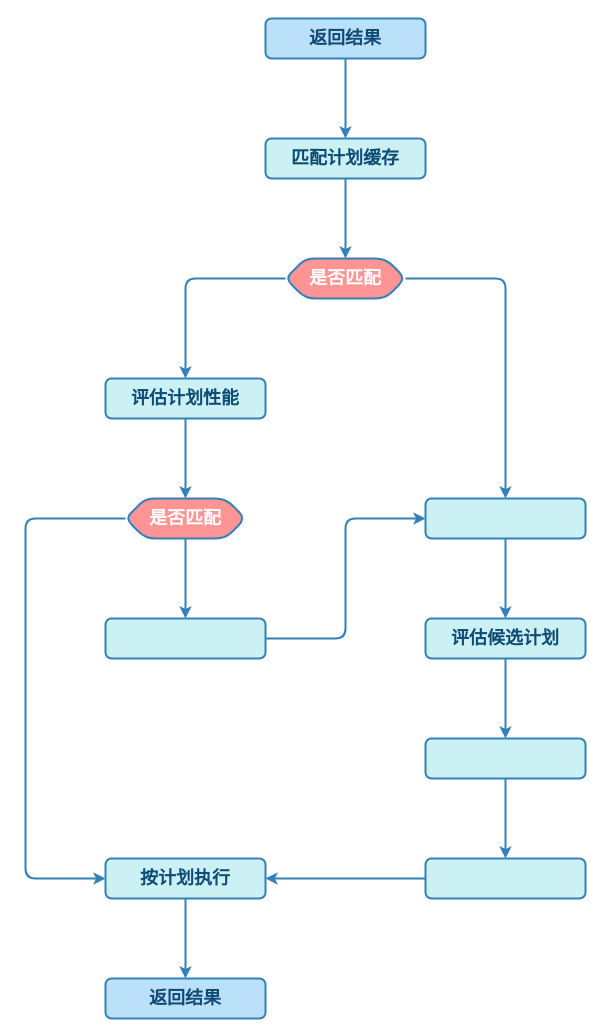
Image size: 603x1036. Some labels were removed from this diagram. Each missing label, with the box of its shape:
创建计划缓存: (424, 857, 586, 899)
生成候选计划: (424, 497, 586, 539)
选择最优计划: (424, 737, 586, 779)
驱逐计划缓存: (104, 617, 266, 659)
